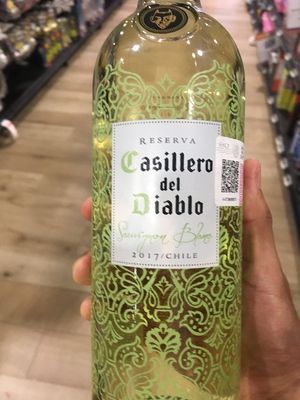casillero del diablo sauvignon blanc: (82, 1, 263, 388)
